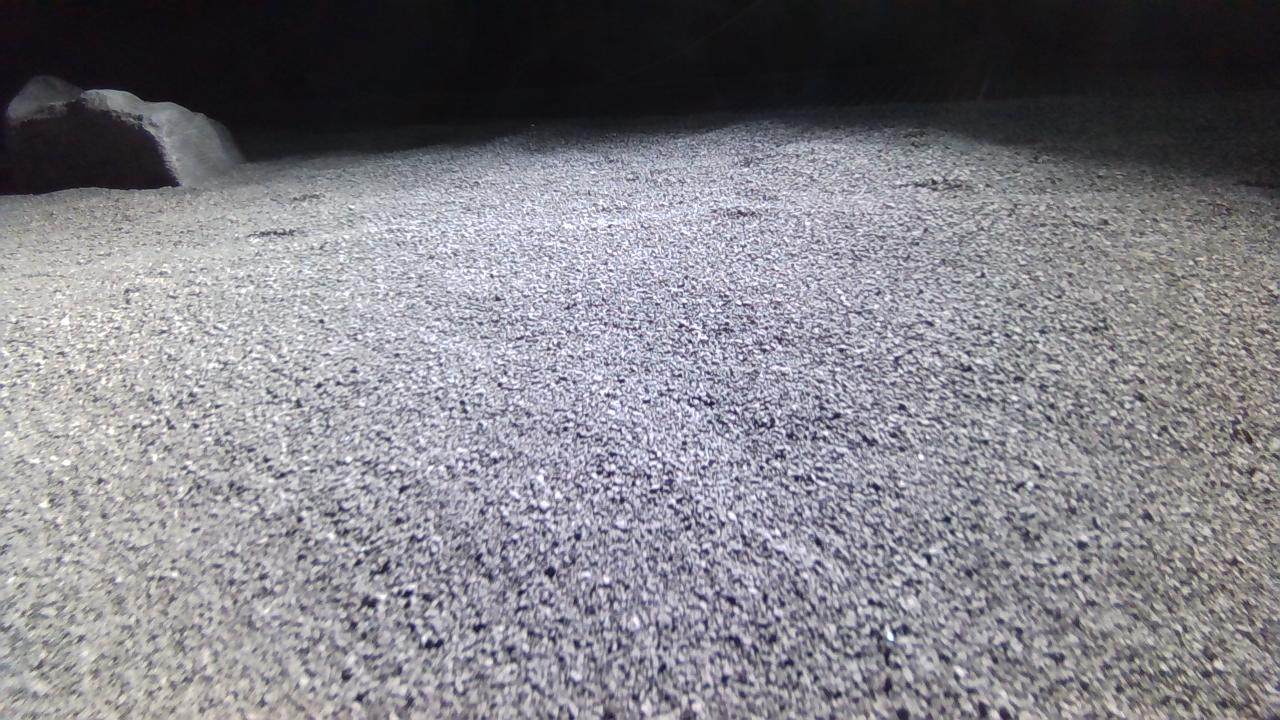rock: (4, 74, 242, 191)
